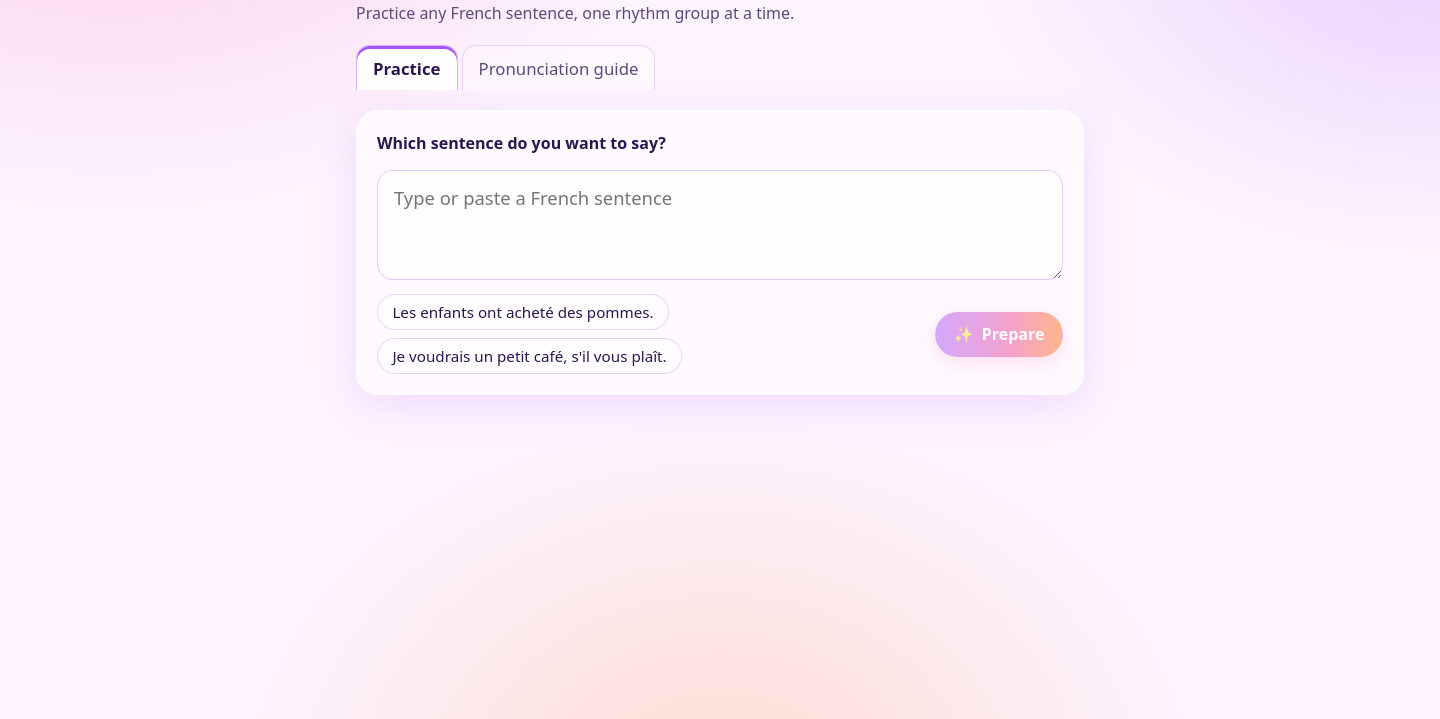
Scenario: App › records a chunk, sends it, and renders ops, feedback and the limitation hints
Type "Bonjour les amis" into the text box labelled "Which sentence do you want to say?" at (720, 225), box [377, 170, 1063, 280]
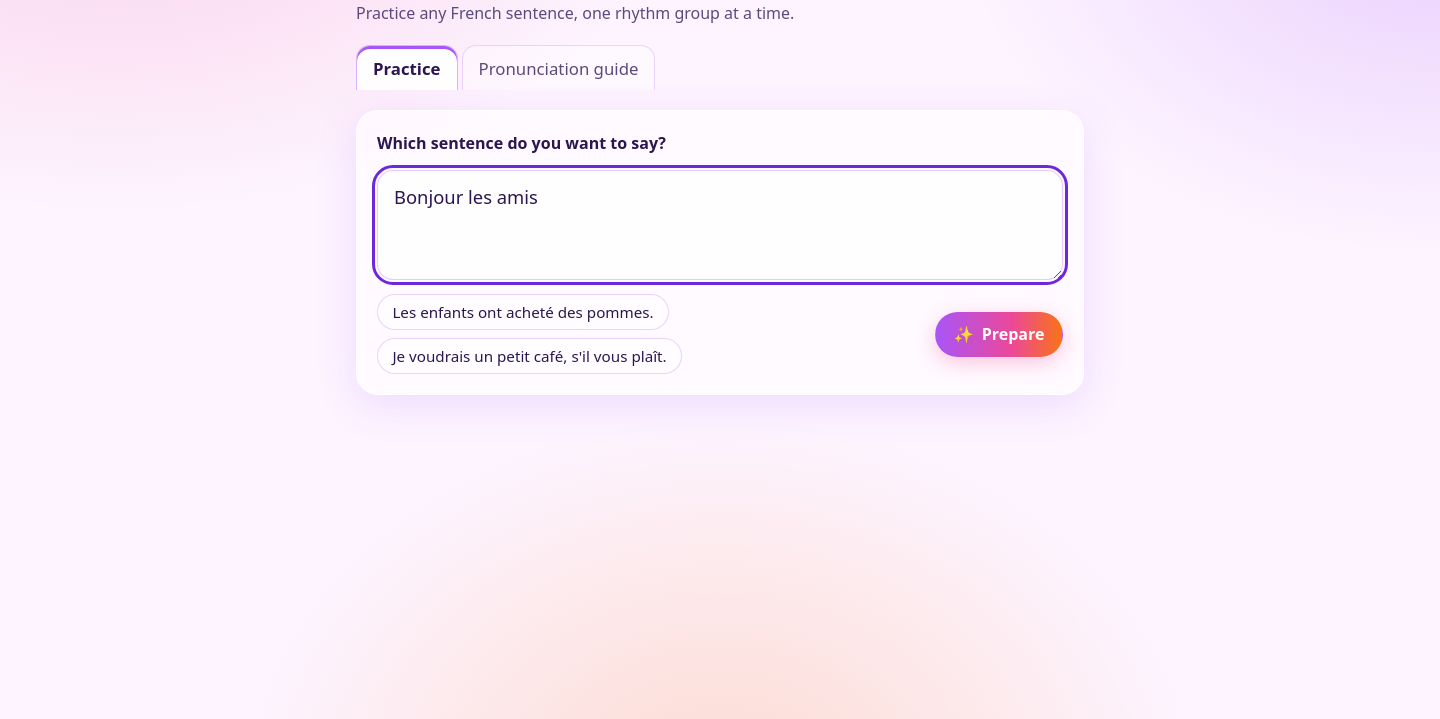
Click the button "✨ Prepare" at (999, 334), box [935, 312, 1063, 357]
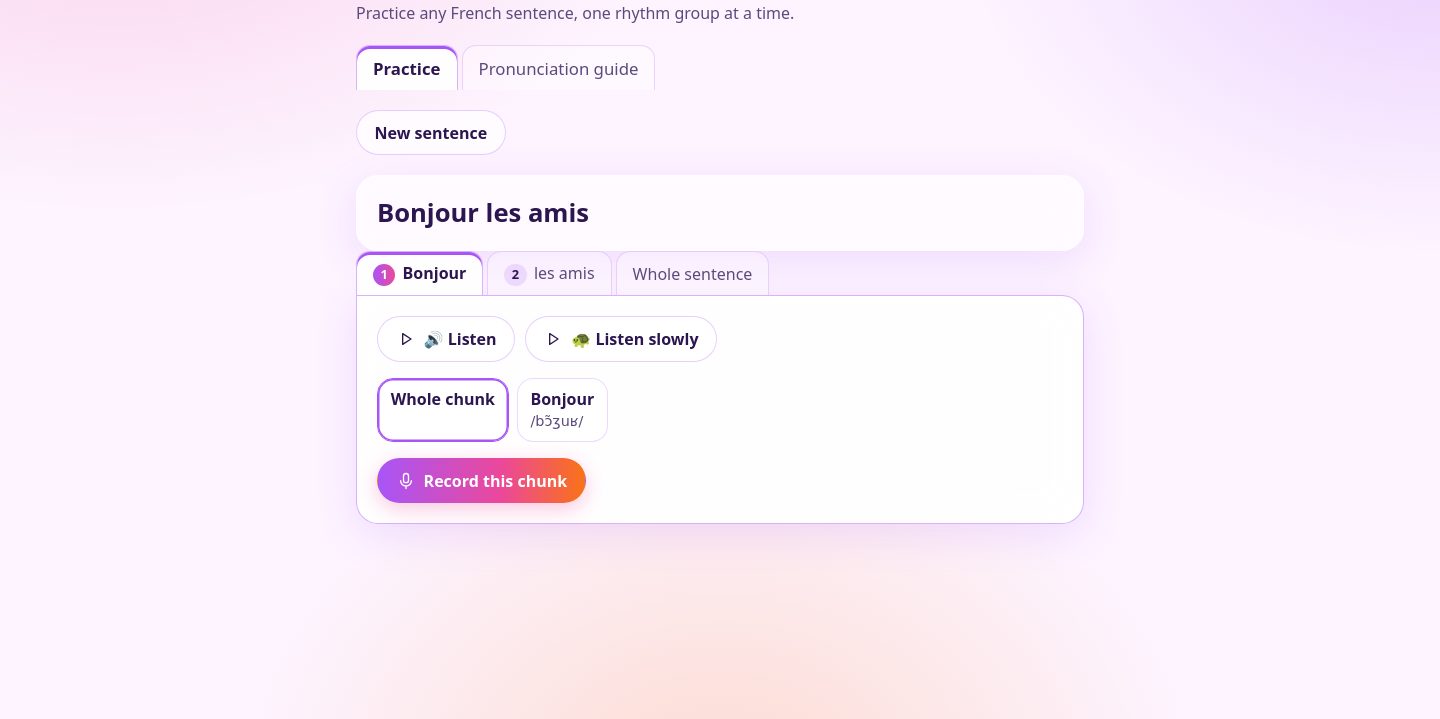
Click the tab "2 les amis" at (549, 274), box [487, 251, 612, 296]
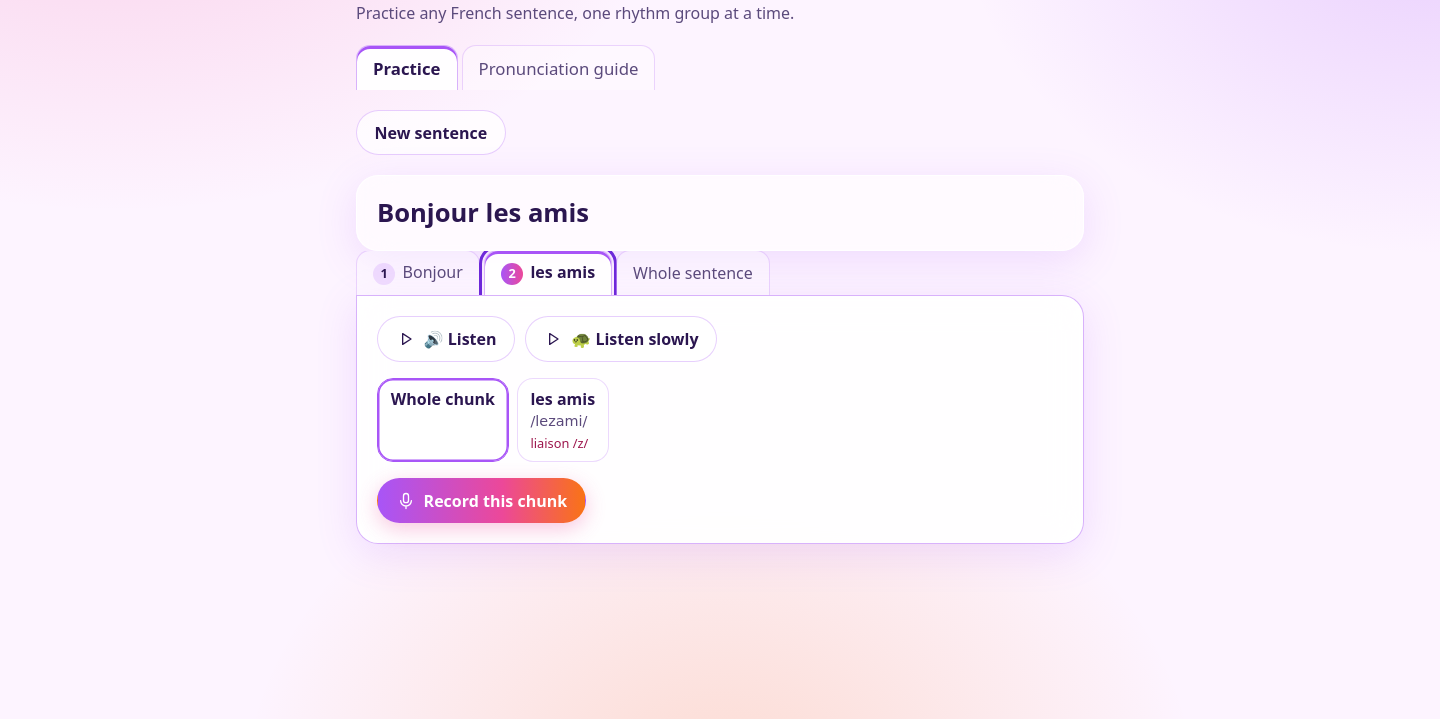
Click the button "Record this chunk" at (481, 501), box [377, 478, 586, 523]
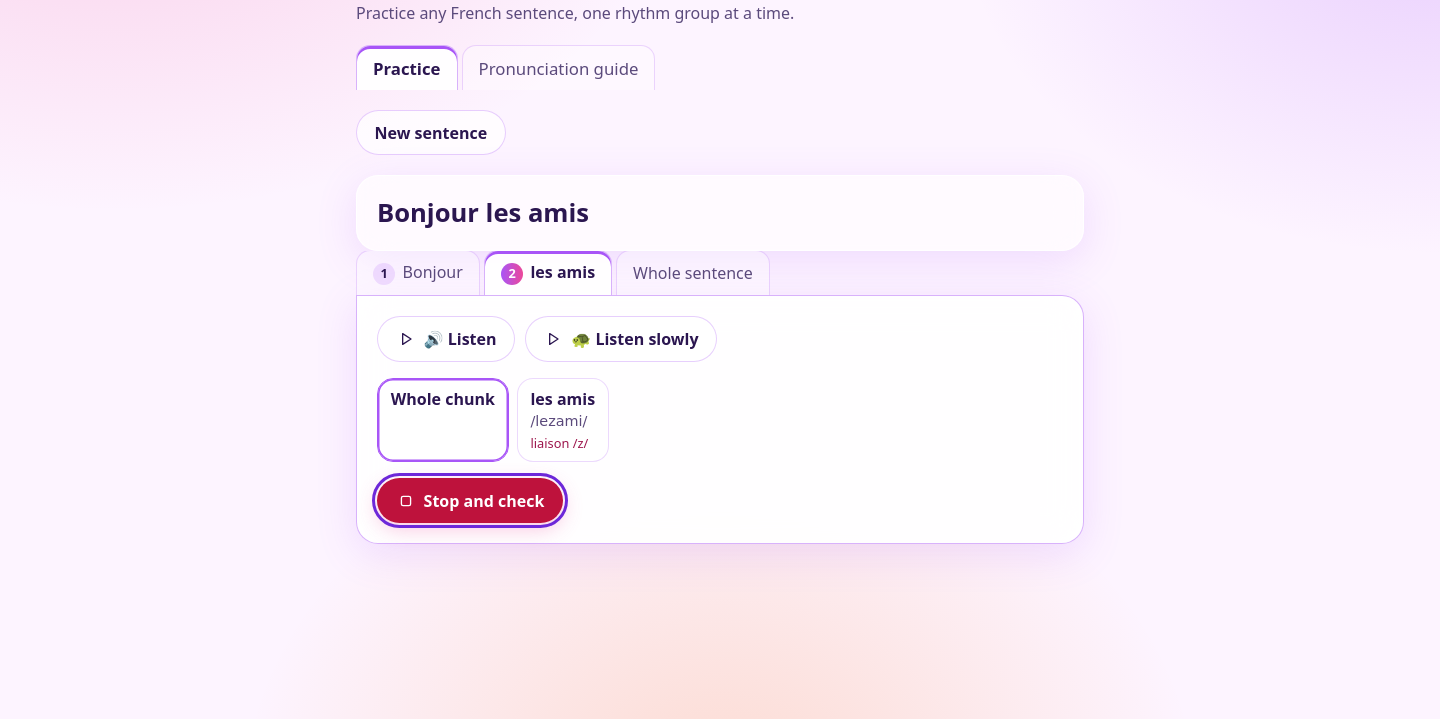
Click the button "Stop and check" at (470, 501), box [377, 478, 563, 523]
(page scrolled)
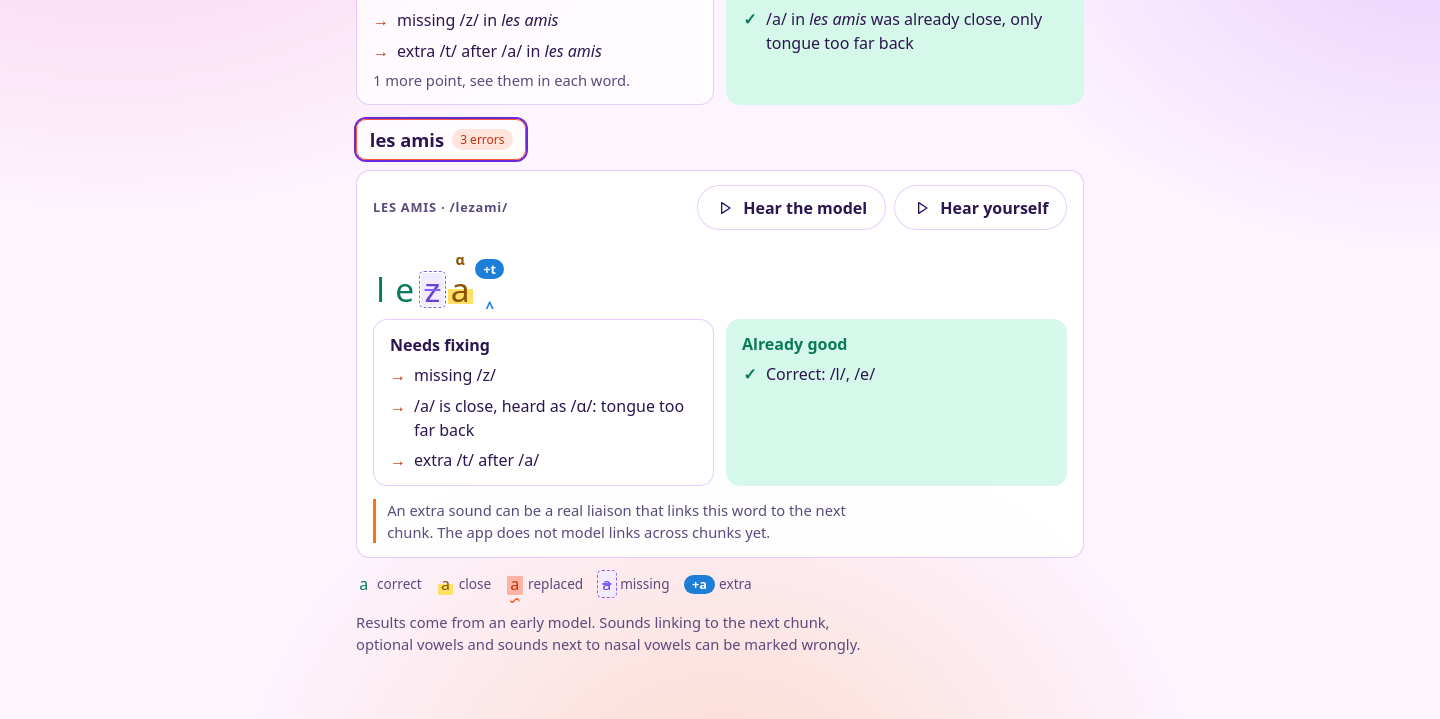
Now the text "missing /z/ in les amis" is shown, box [397, 8, 558, 32]
Now the text "links this word to the next chunk" is shown, box [387, 500, 846, 542]
